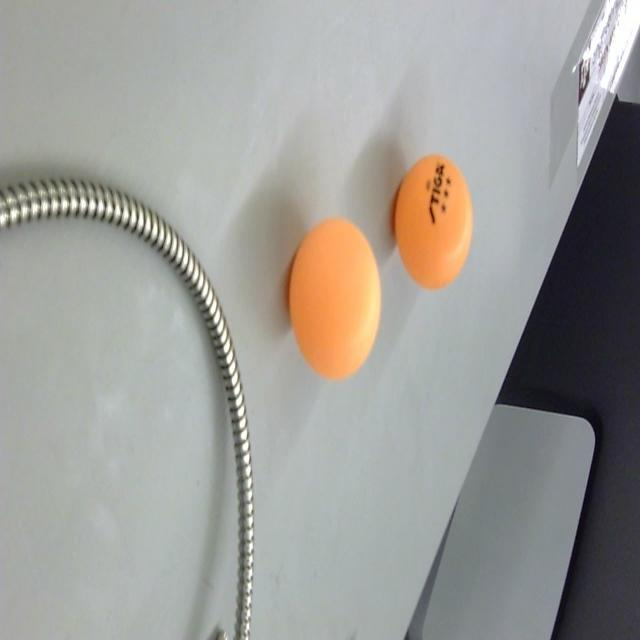ball: (286, 214, 382, 386), (392, 154, 476, 292)
